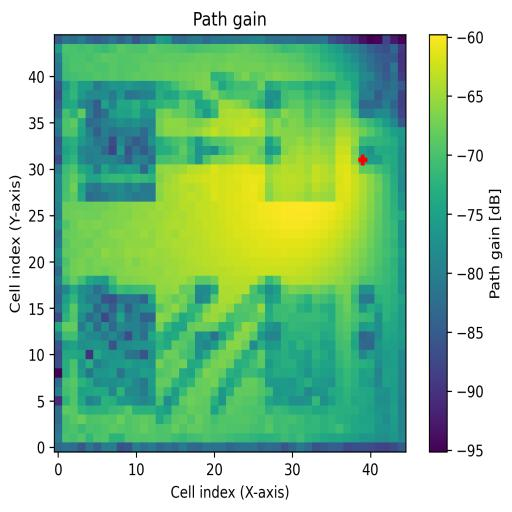Concrete: (266, 80, 336, 203)
Glass: (76, 80, 156, 202)
Metal: (266, 285, 336, 407)
Wood: (77, 284, 155, 408)
